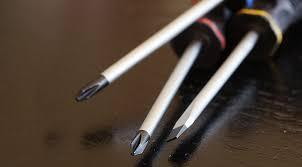screwdriver: (72, 66, 123, 103), (125, 119, 157, 155), (164, 104, 192, 142)
